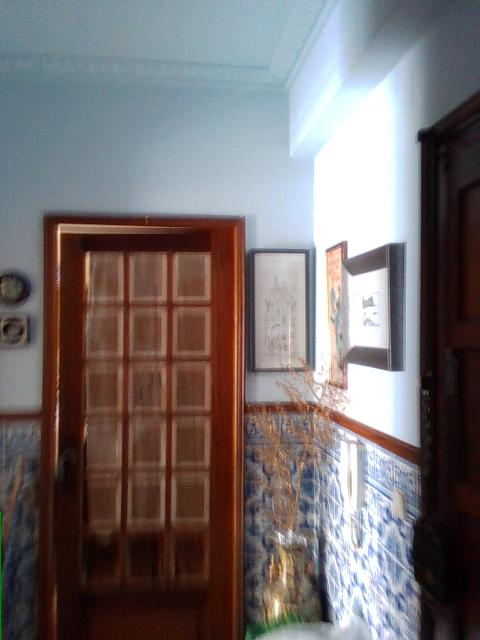door: (42, 213, 243, 640), (418, 88, 480, 640)
